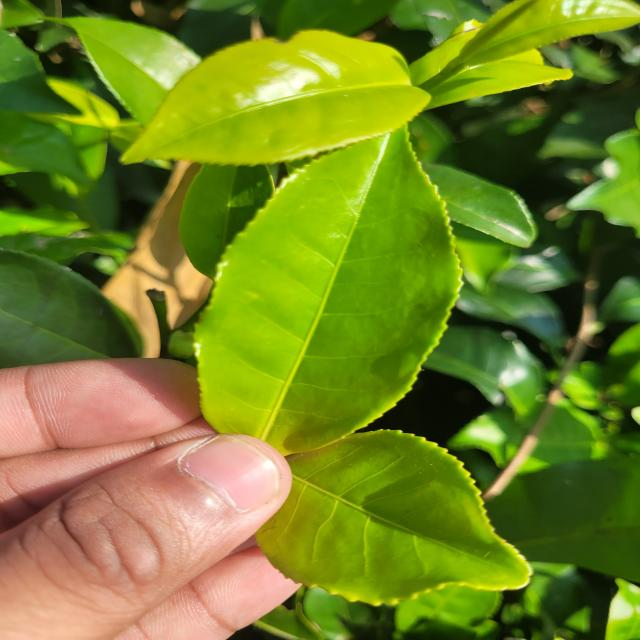Catagory A(1-2 days): (171, 93, 471, 454)
